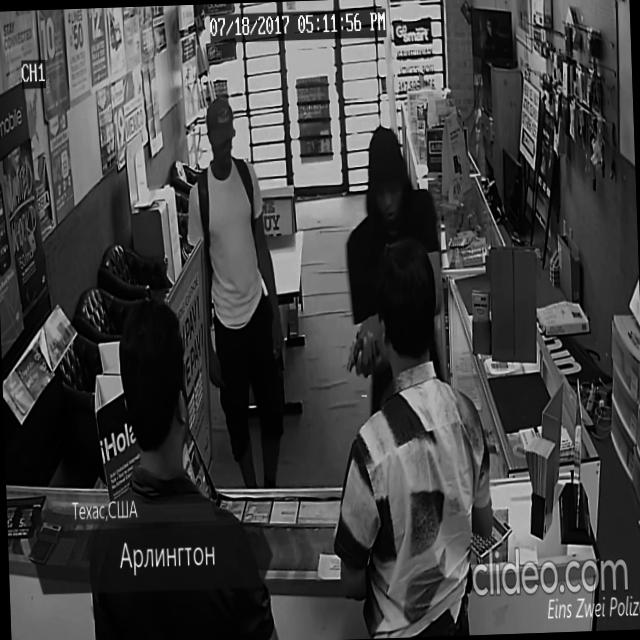gun: (344, 328, 376, 382)
person: (320, 232, 498, 640), (77, 289, 282, 640), (180, 91, 290, 490)
person with a gun: (337, 120, 448, 422)
